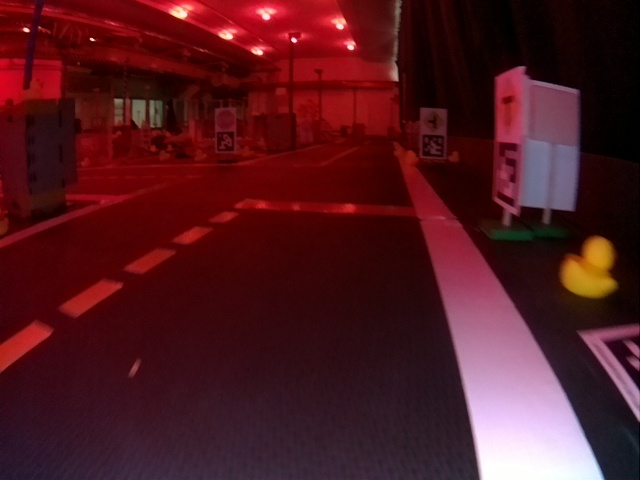Duckie: (562, 237, 618, 299)
Intersection sign: (496, 78, 519, 140), (421, 110, 445, 133)
QR code: (581, 326, 638, 418), (493, 142, 517, 210), (422, 135, 445, 158), (216, 132, 235, 152)
Stop sign: (215, 110, 232, 130)
